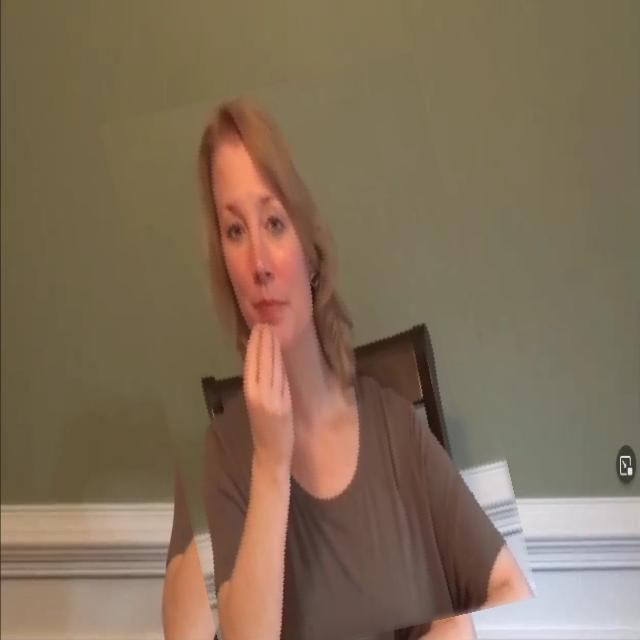Food: (128, 66, 509, 640)
